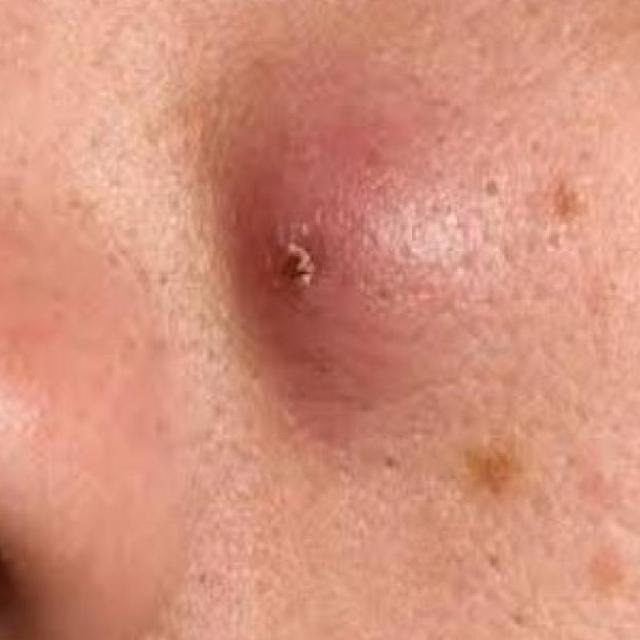nodule: (204, 56, 545, 447)
